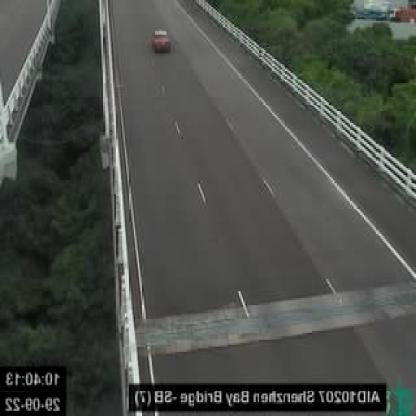Car: (150, 28, 176, 57)
